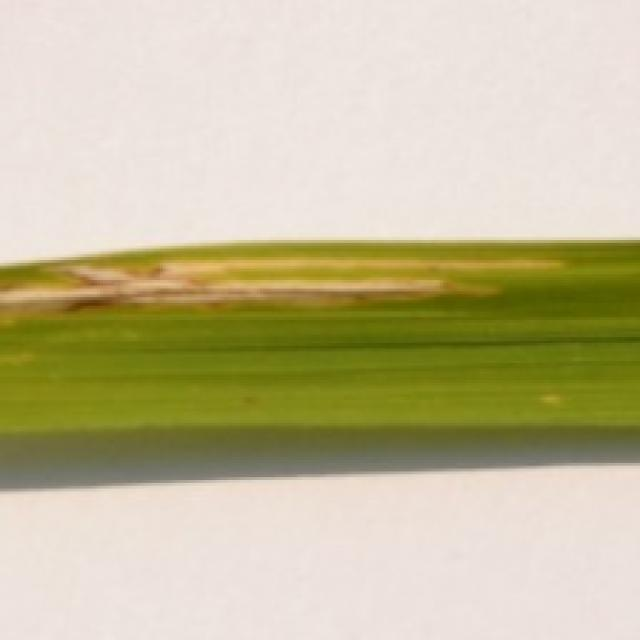Rice___Bacterial_Leaf_Blight: (0, 239, 637, 439)
